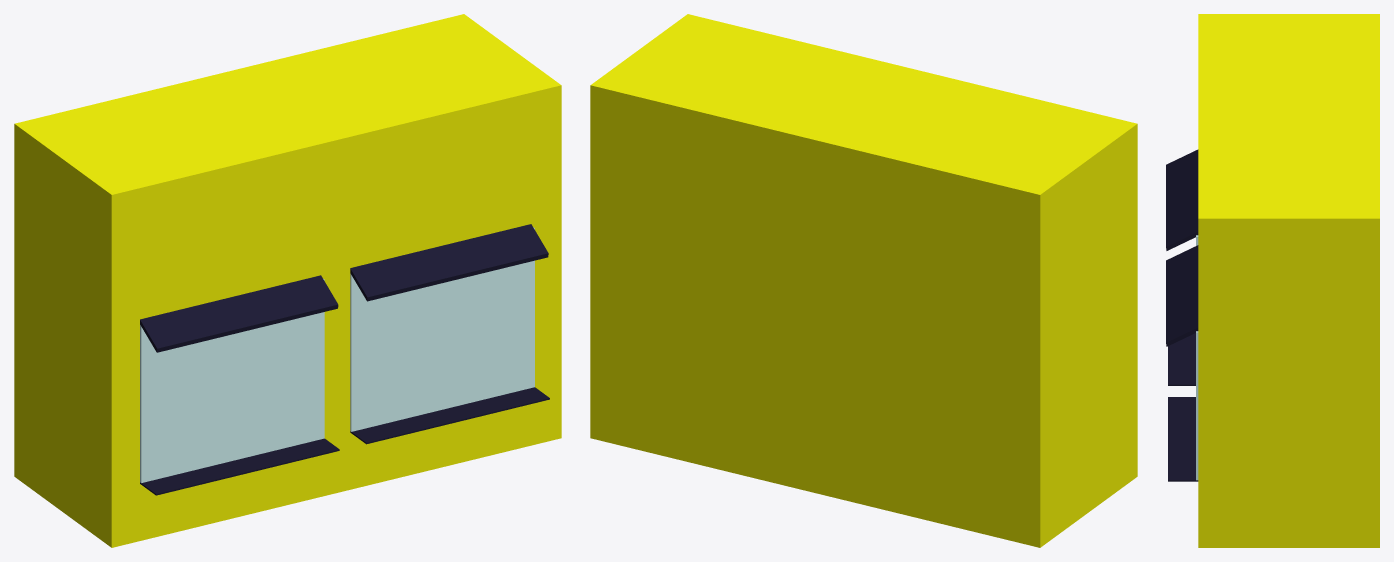
The picture shows the model from 3 angles, left to right: view 1: azimuth 30°, elevation 25°; view 2: azimuth 150°, elevation 25°; view 3: azimuth 270°, elevation 25°; orthographic projection. The views are drawn at different scales.
Parts seen in each view (by area): view 1: Mesh_0.010; view 2: Mesh_0.010; view 3: Mesh_0.010.
Part boxes in pixels (<box>): Mesh_0.010: <box>14,14,561,547</box>; Mesh_0.010: <box>590,14,1137,547</box>; Mesh_0.010: <box>1166,14,1379,547</box>.
Size of the model in its own units: 4 by 3 by 1.77.
